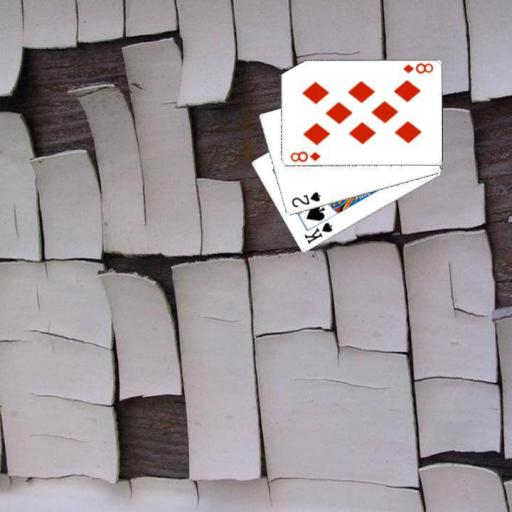2S: (288, 189, 322, 209)
8D: (287, 149, 322, 164), (400, 62, 435, 76)
KS: (301, 219, 334, 246)
